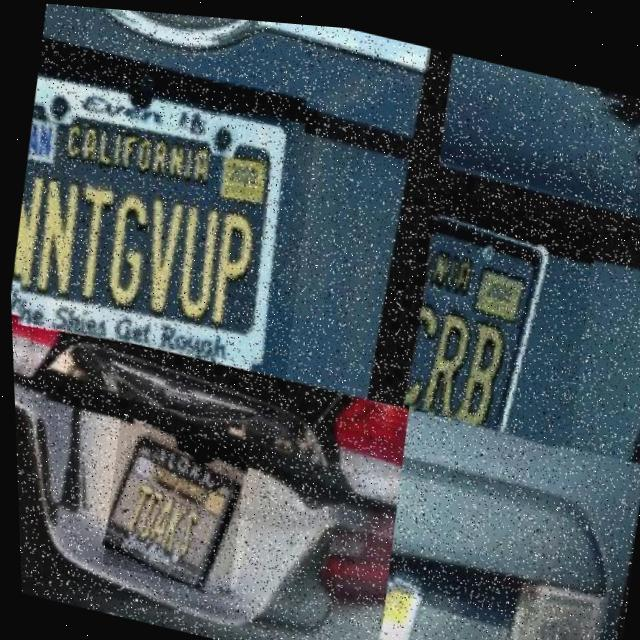LicensePlate: (1, 34, 327, 381), (396, 180, 602, 442), (94, 416, 249, 592), (365, 557, 512, 640)
